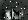person: (18, 9, 24, 19), (6, 11, 12, 20), (14, 10, 18, 20)
